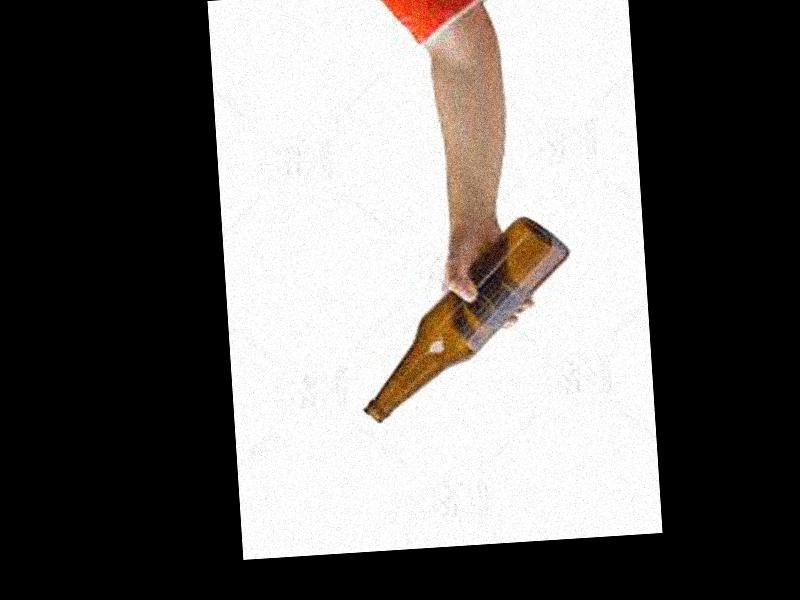Beer: (353, 214, 581, 423)
